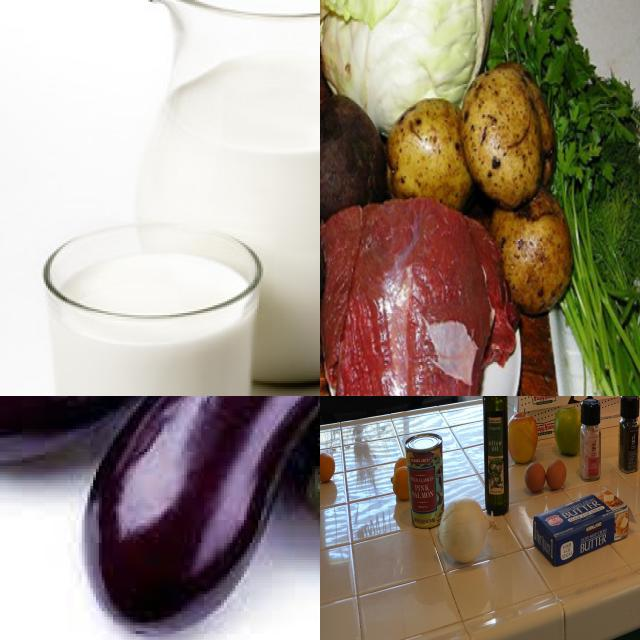beet: (321, 85, 385, 248)
bell_pepper: (619, 397, 640, 474)
cabbage: (324, 1, 494, 133)
egg: (527, 462, 547, 496), (548, 459, 568, 492)
eggplant: (82, 397, 321, 635), (1, 397, 287, 461), (233, 397, 321, 566)
onion: (440, 499, 501, 566)
potato: (467, 62, 559, 198), (496, 172, 574, 308), (390, 94, 473, 219)
